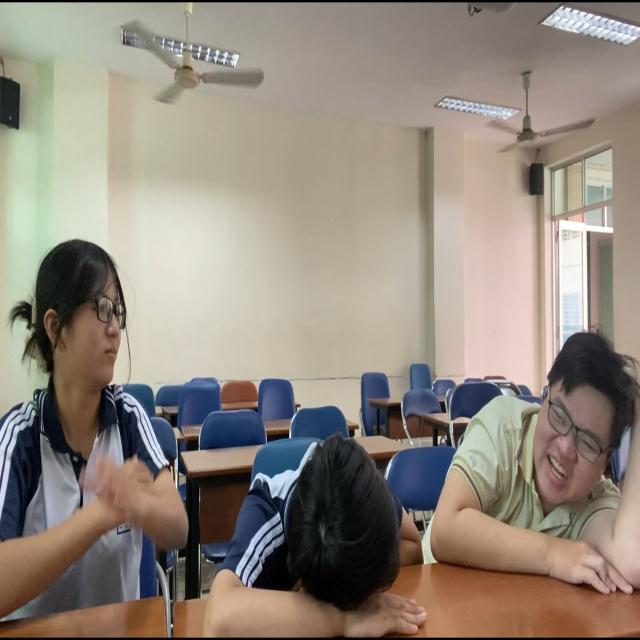sleep: (206, 408, 436, 640)
